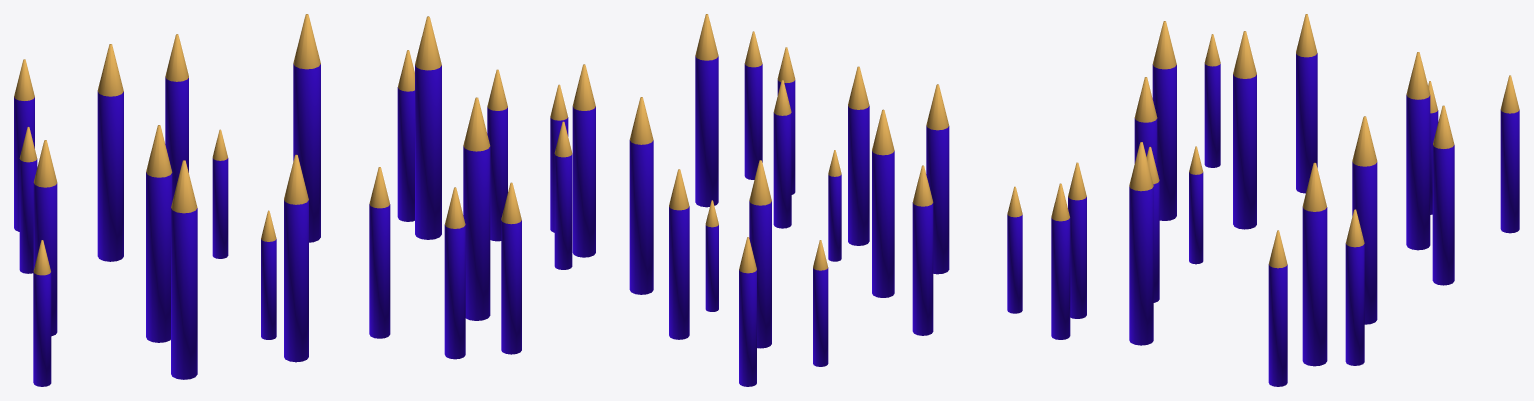
The model's file is matite_LOD0.fbx.
The picture shows the model from 3 angles, left to right: view 1: azimuth 30°, elevation 25°; view 2: azimuth 150°, elevation 25°; view 3: azimuth 270°, elevation 25°; orthographic projection. The views are drawn at different scales.
Parts seen in each view (by area): view 1: Cylinder_029; view 2: Cylinder_029; view 3: Cylinder_029.
Boxes of the visible parts, <box> form: Cylinder_029: <box>14,14,521,386</box>; Cylinder_029: <box>550,14,1022,386</box>; Cylinder_029: <box>1051,14,1519,386</box>.
Bounding box in the file's own units: 736 × 308 × 645.
